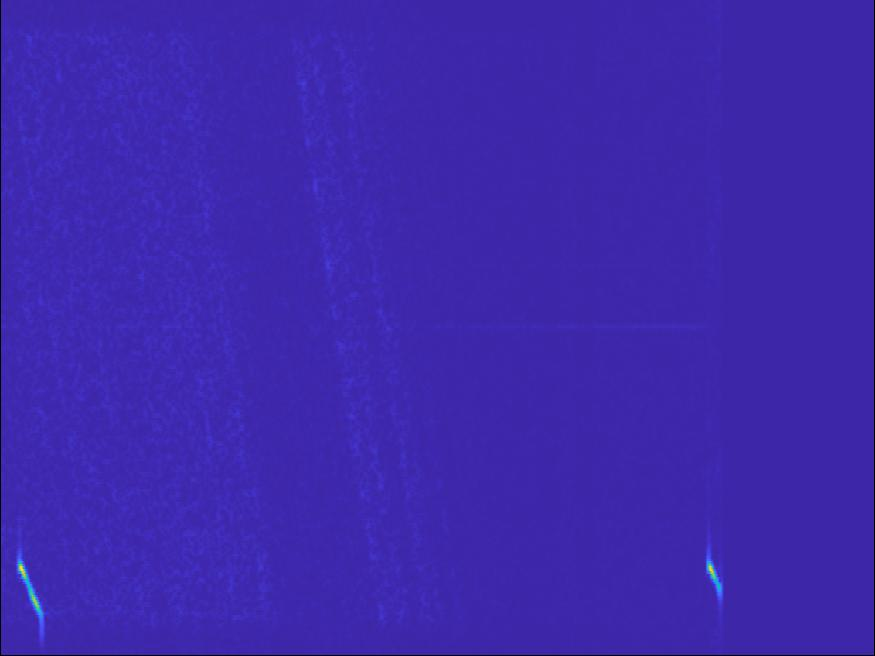Interference: (2, 546, 65, 641), (688, 532, 748, 620)
